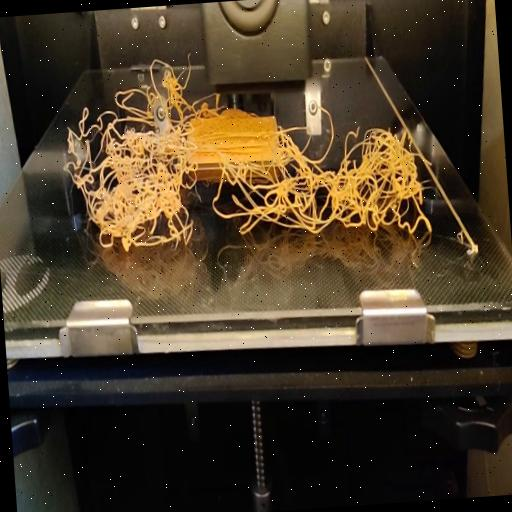spaghetti: (60, 84, 439, 260), (106, 48, 202, 106)
